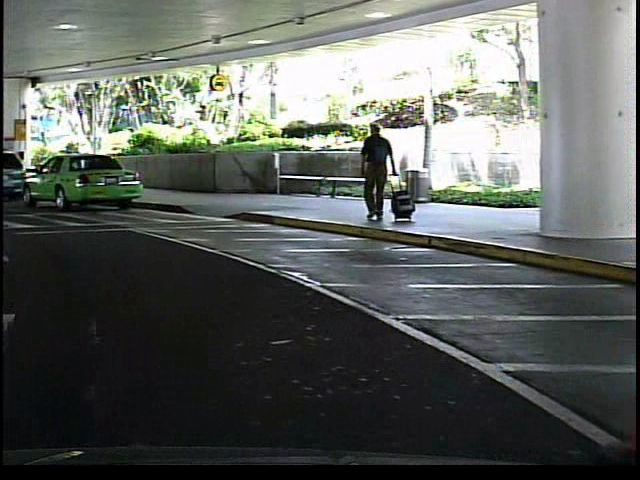person: (355, 116, 401, 230)
